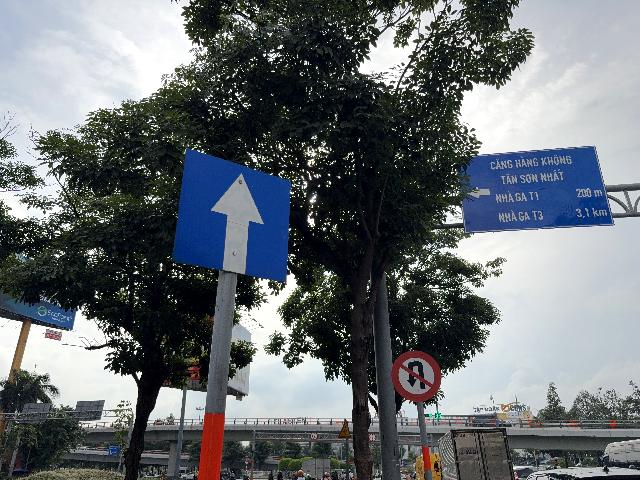cam-quay-dau-xe: (391, 350, 442, 402)
duong-mot-chieu: (171, 148, 292, 283)
